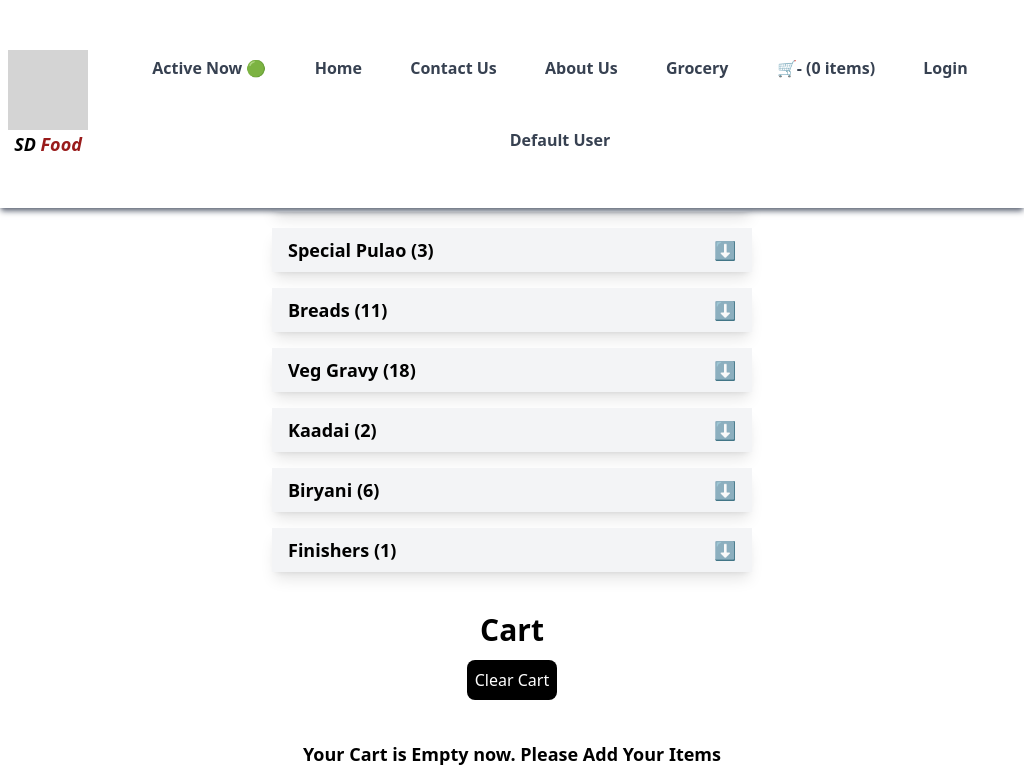
it: Should add Cart items in header component
(page scrolled)
Click the text "Kaadai (2)" at (332, 430), box [288,416,377,444]
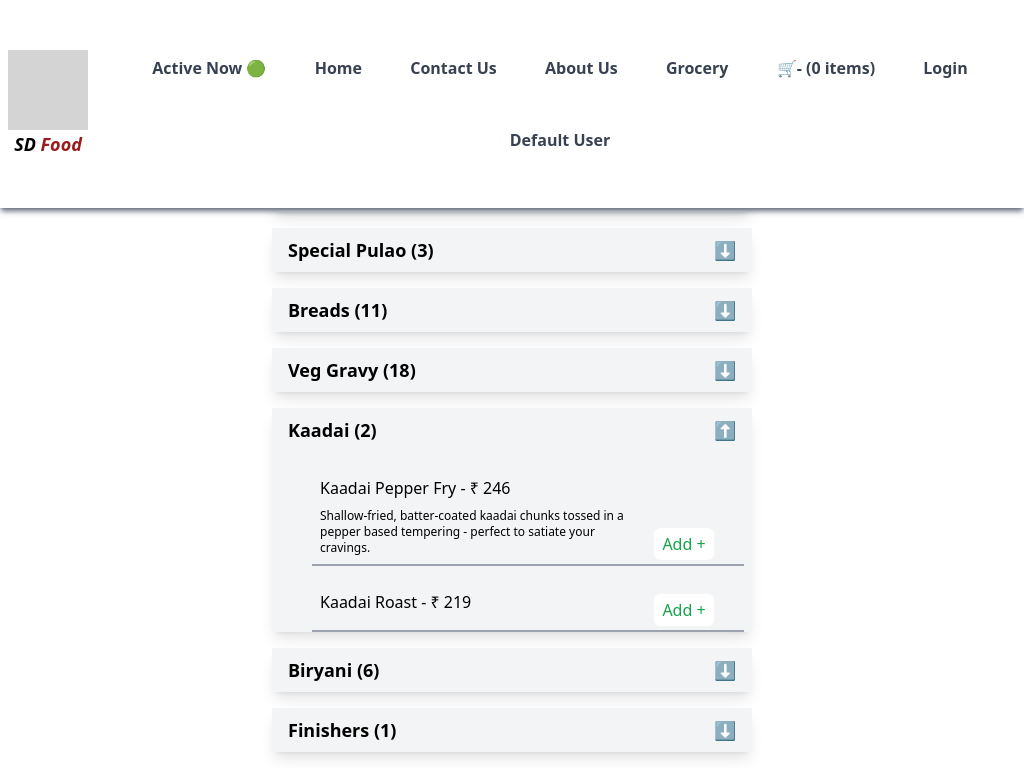
Click the button "Add +" below "Kaadai Pepper Fry" at (684, 544), box [654,528,714,560]
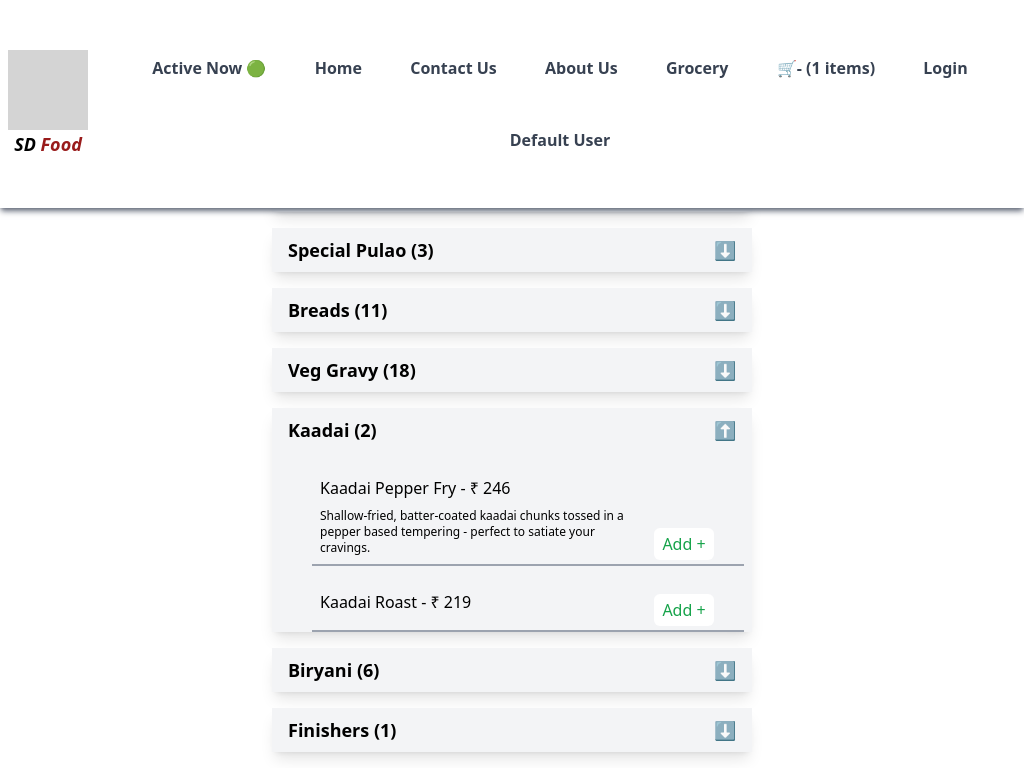
Click the button "Add +" in the row of "219" at (684, 610), box [654,594,714,626]
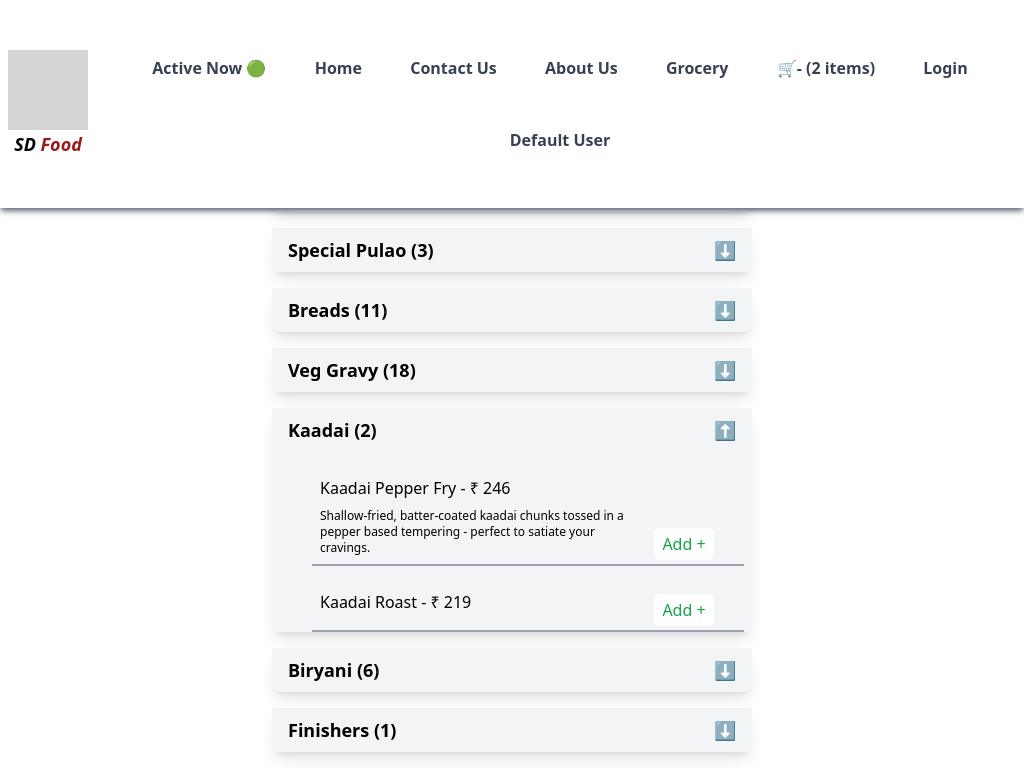
expect the link "🛒- (2 items)" is shown: met, box [777,57,875,79]
